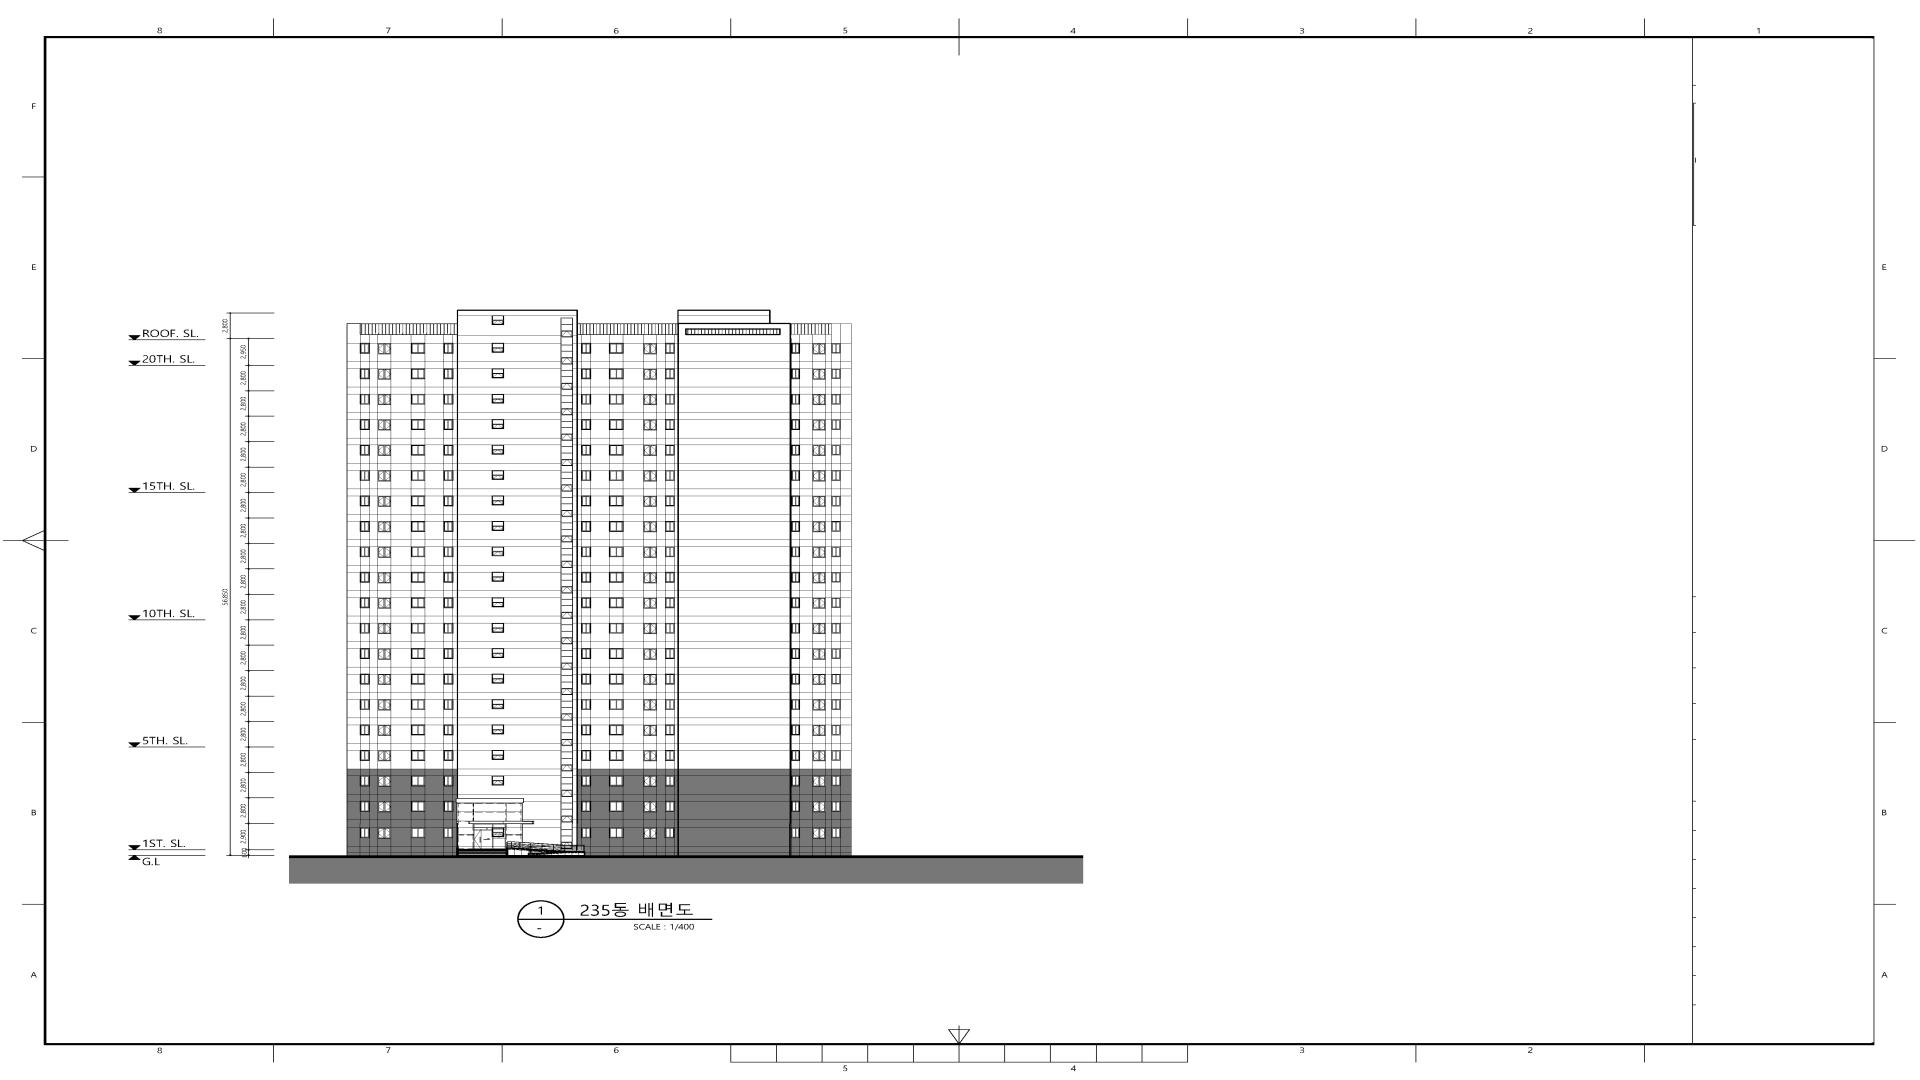door: (473, 829, 492, 849)
wall: (347, 310, 852, 856)
window: (686, 328, 781, 335), (609, 368, 624, 380), (609, 724, 624, 736), (609, 800, 624, 812), (377, 521, 392, 533), (377, 622, 392, 634), (377, 699, 392, 711), (377, 775, 392, 787), (377, 343, 390, 355), (377, 368, 390, 380), (377, 419, 390, 431), (377, 444, 390, 456), (644, 775, 657, 787), (644, 699, 657, 711), (644, 622, 657, 634), (644, 521, 657, 533), (644, 444, 657, 456), (644, 419, 657, 431), (644, 368, 657, 380), (644, 343, 657, 355), (812, 343, 825, 355), (812, 368, 825, 380), (812, 419, 825, 431), (812, 444, 825, 456), (812, 521, 825, 533), (812, 597, 825, 609), (812, 622, 825, 634), (812, 699, 825, 711), (812, 775, 825, 787), (609, 343, 624, 353), (609, 394, 624, 405), (609, 419, 624, 430), (609, 444, 624, 455), (609, 471, 624, 481), (609, 496, 624, 506), (609, 521, 624, 531), (609, 547, 624, 558), (609, 572, 624, 583), (609, 597, 624, 608), (609, 622, 624, 633), (609, 649, 624, 659), (609, 674, 624, 684), (609, 699, 624, 709), (609, 750, 624, 761), (609, 775, 624, 786), (609, 828, 624, 839), (410, 800, 425, 811), (410, 775, 425, 786), (410, 750, 425, 761), (410, 724, 425, 735), (410, 699, 425, 709), (410, 674, 425, 684), (410, 649, 425, 659), (410, 622, 425, 633), (410, 597, 425, 608), (410, 572, 425, 583), (410, 521, 425, 531), (410, 496, 425, 506), (410, 444, 425, 455), (410, 343, 425, 353), (377, 547, 392, 558), (377, 572, 392, 583), (377, 597, 392, 608), (377, 649, 392, 659), (377, 674, 392, 684), (377, 725, 392, 736), (377, 750, 392, 761), (377, 802, 392, 812), (377, 828, 392, 839), (411, 828, 425, 839), (411, 547, 425, 558), (411, 471, 425, 481), (411, 419, 425, 430), (411, 394, 425, 405), (377, 394, 390, 405), (377, 471, 390, 481), (377, 496, 390, 506), (644, 828, 657, 839), (644, 802, 657, 812), (644, 750, 657, 761), (644, 725, 657, 736), (644, 674, 657, 684), (644, 649, 657, 659), (644, 597, 657, 608), (644, 572, 657, 583), (644, 547, 657, 558), (644, 496, 657, 506), (644, 471, 657, 481), (644, 394, 657, 405), (812, 394, 825, 405), (812, 471, 825, 481), (812, 496, 825, 506), (812, 547, 825, 558), (812, 572, 825, 583), (812, 649, 825, 659), (812, 674, 825, 684), (812, 725, 825, 736), (812, 750, 825, 761), (812, 802, 825, 812), (812, 828, 825, 839), (443, 724, 454, 736), (443, 368, 454, 380), (665, 800, 675, 812), (665, 724, 675, 736), (665, 368, 675, 380), (492, 827, 504, 837), (492, 775, 504, 786), (492, 724, 504, 735), (492, 699, 504, 709), (492, 622, 504, 633), (492, 597, 504, 608), (492, 521, 504, 531), (492, 444, 504, 455), (492, 368, 504, 378), (492, 343, 504, 353), (492, 315, 504, 326), (411, 369, 425, 378), (443, 828, 454, 839), (443, 800, 454, 811), (443, 775, 454, 786), (443, 750, 454, 761), (443, 699, 454, 709), (443, 674, 454, 684), (443, 649, 454, 659), (443, 622, 454, 633), (443, 597, 454, 608), (443, 572, 454, 583), (443, 521, 454, 531), (443, 496, 454, 506), (443, 471, 454, 481), (443, 444, 454, 455), (443, 419, 454, 430), (443, 394, 454, 405), (443, 343, 454, 353), (665, 828, 675, 839), (665, 775, 675, 786), (665, 750, 675, 761), (665, 699, 675, 709), (665, 674, 675, 684), (665, 649, 675, 659), (665, 622, 675, 633), (665, 597, 675, 608), (665, 572, 675, 583), (665, 521, 675, 531), (665, 496, 675, 506), (665, 471, 675, 481), (665, 444, 675, 455), (665, 419, 675, 430), (665, 394, 675, 405), (665, 343, 675, 353), (360, 724, 369, 736), (582, 368, 591, 380), (582, 724, 591, 736), (582, 800, 591, 812), (791, 800, 800, 812), (791, 368, 800, 380), (492, 750, 504, 760), (492, 674, 504, 683), (492, 649, 504, 658), (492, 572, 504, 582), (492, 547, 504, 556), (492, 496, 504, 505), (492, 471, 504, 480), (492, 419, 504, 429), (492, 394, 504, 404), (360, 343, 369, 353), (360, 368, 369, 378), (360, 394, 369, 405), (360, 419, 369, 430), (360, 444, 369, 455), (360, 471, 369, 481), (360, 496, 369, 506), (360, 521, 369, 531), (360, 547, 369, 558), (360, 572, 369, 583), (360, 597, 369, 608), (360, 622, 369, 633), (360, 649, 369, 659), (360, 674, 369, 684), (360, 699, 369, 709), (360, 750, 369, 761), (360, 775, 369, 786), (360, 800, 369, 811), (360, 828, 369, 839), (443, 547, 454, 556), (582, 343, 591, 353), (582, 394, 591, 405), (582, 419, 591, 430), (582, 444, 591, 455), (582, 471, 591, 481), (582, 496, 591, 506), (582, 521, 591, 531), (582, 546, 591, 556), (582, 572, 591, 583), (582, 597, 591, 608), (582, 622, 591, 633), (582, 649, 591, 659), (582, 674, 591, 684), (582, 699, 591, 709), (582, 750, 591, 761), (582, 775, 591, 786), (582, 828, 591, 839), (665, 547, 675, 556), (791, 828, 800, 839), (791, 775, 800, 786), (791, 750, 800, 761), (791, 725, 800, 736), (791, 699, 800, 709), (791, 674, 800, 684), (791, 649, 800, 659), (791, 622, 800, 633), (791, 597, 800, 608), (791, 572, 800, 583), (791, 547, 800, 558), (791, 521, 800, 531), (791, 496, 800, 506), (791, 471, 800, 481), (791, 444, 800, 455), (791, 419, 800, 430), (791, 394, 800, 405), (791, 343, 800, 353), (831, 343, 840, 353), (831, 368, 840, 378), (831, 394, 840, 405), (831, 419, 840, 430), (831, 444, 840, 455), (831, 471, 840, 481), (831, 496, 840, 506), (831, 521, 840, 531), (831, 572, 840, 583), (831, 597, 840, 608), (831, 622, 840, 633), (831, 649, 840, 659), (831, 674, 840, 684), (831, 699, 840, 709), (831, 725, 840, 736), (831, 750, 840, 761), (831, 775, 840, 786), (831, 802, 840, 812), (831, 828, 840, 839), (831, 547, 840, 556), (562, 382, 572, 390), (562, 560, 572, 568), (562, 815, 572, 823), (562, 331, 572, 338), (562, 357, 572, 364), (562, 409, 572, 415), (562, 434, 572, 440), (562, 459, 572, 465), (562, 485, 572, 492), (562, 510, 572, 517), (562, 535, 572, 542), (562, 587, 572, 593), (562, 612, 572, 618), (562, 637, 572, 644), (562, 663, 572, 670), (562, 688, 572, 695), (562, 713, 572, 720), (562, 740, 572, 746), (562, 765, 572, 771), (562, 790, 572, 796)
